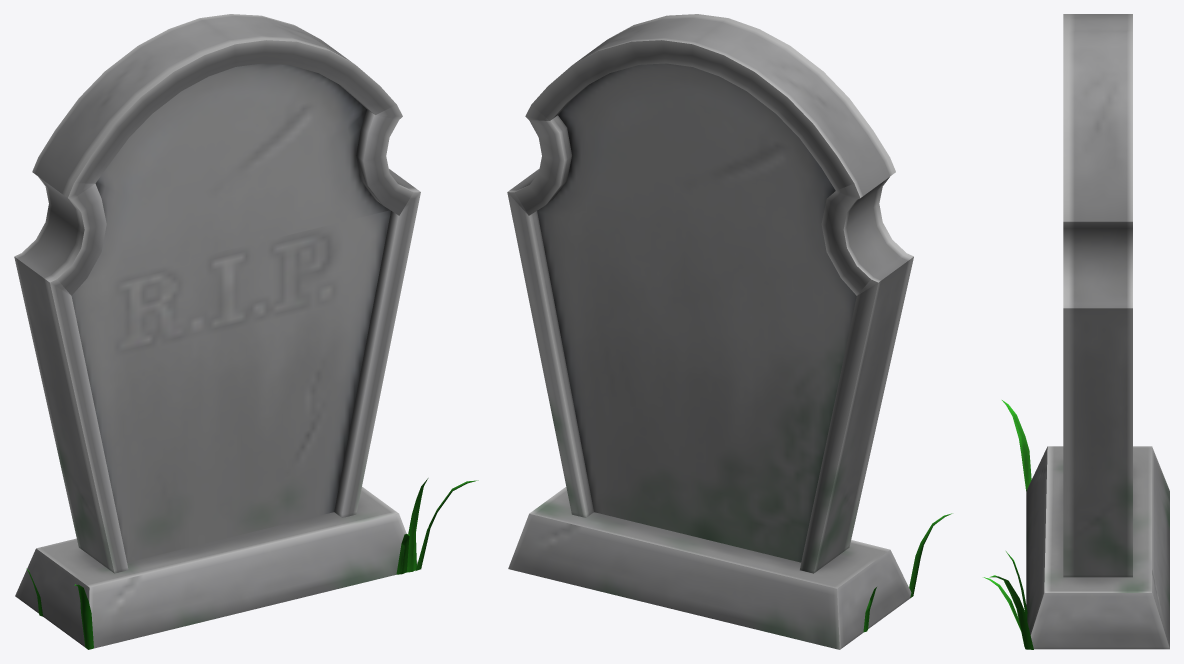
Rendered from headstone.glb.
The picture shows the model from 3 angles, left to right: view 1: azimuth 30°, elevation 25°; view 2: azimuth 150°, elevation 25°; view 3: azimuth 270°, elevation 25°; orthographic projection. The views are drawn at different scales.
Parts seen in each view (by area): view 1: SM_Headstone; view 2: SM_Headstone; view 3: SM_Headstone.
Boxes of the visible parts, x1,y1,x2,y2 form: SM_Headstone: (14, 14, 478, 649); SM_Headstone: (507, 14, 952, 649); SM_Headstone: (983, 14, 1169, 649).
Bounding box in the file's own units: 0.9763 × 1.29 × 0.4077.
Materials: 1 (1 with a texture image).
